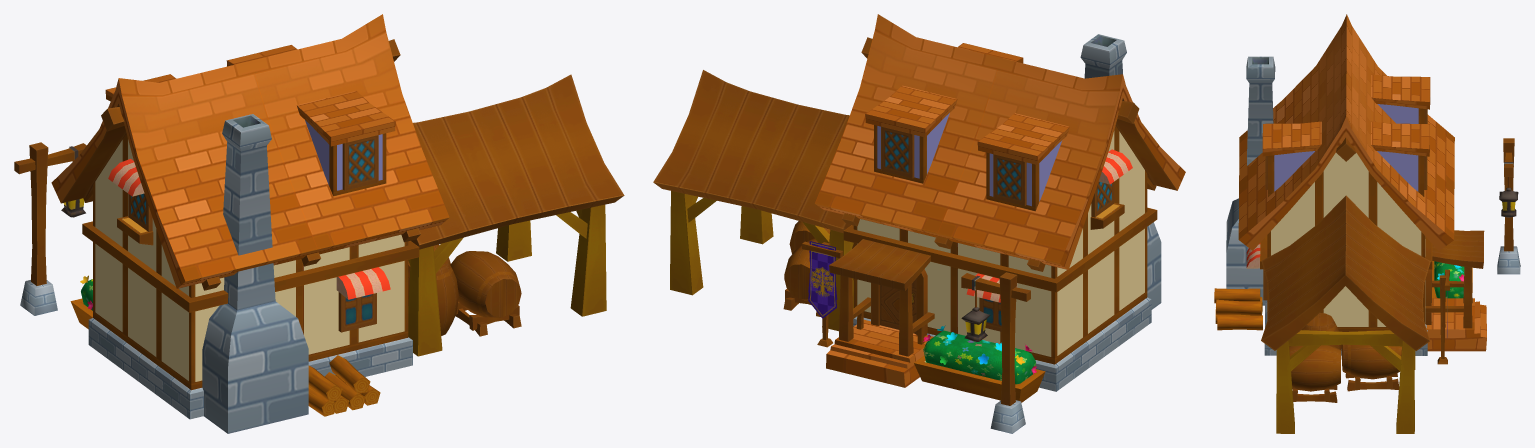
Rendered from HOS0110012.fbx.
3 views of the same model, side by side, from view 1: azimuth 30°, elevation 25°; view 2: azimuth 150°, elevation 25°; view 3: azimuth 270°, elevation 25° (orthographic). The views are drawn at different scales.
Parts seen in each view (by area): view 1: smHOS0110012; view 2: smHOS0110012; view 3: smHOS0110012.
Boxes of the visible parts, x1,y1,x2,y2 form: smHOS0110012: [14, 14, 624, 433]; smHOS0110012: [653, 14, 1185, 433]; smHOS0110012: [1214, 14, 1520, 433].
Bounding box in the file's own units: 1106 × 705 × 791.
Materials: 1 (1 with a texture image).
